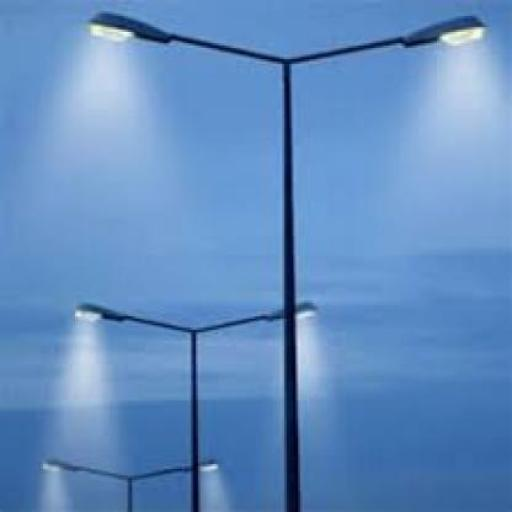street light: (86, 11, 489, 510), (73, 300, 318, 510), (42, 456, 221, 510)
